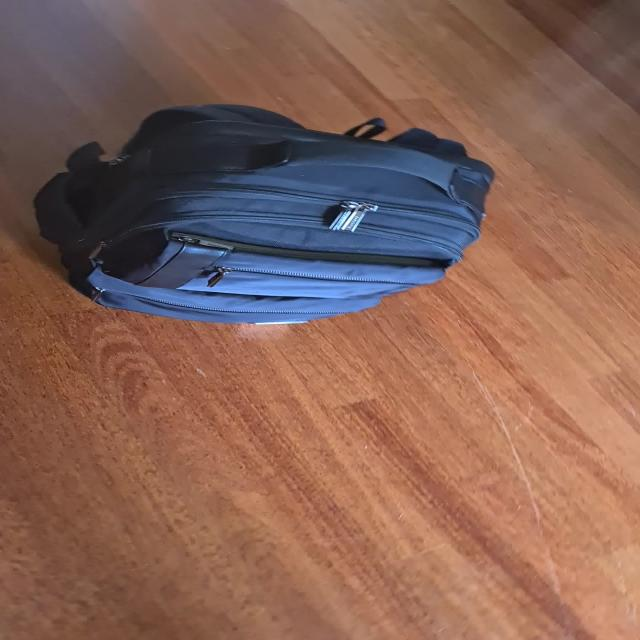backpack: (21, 94, 506, 328)
